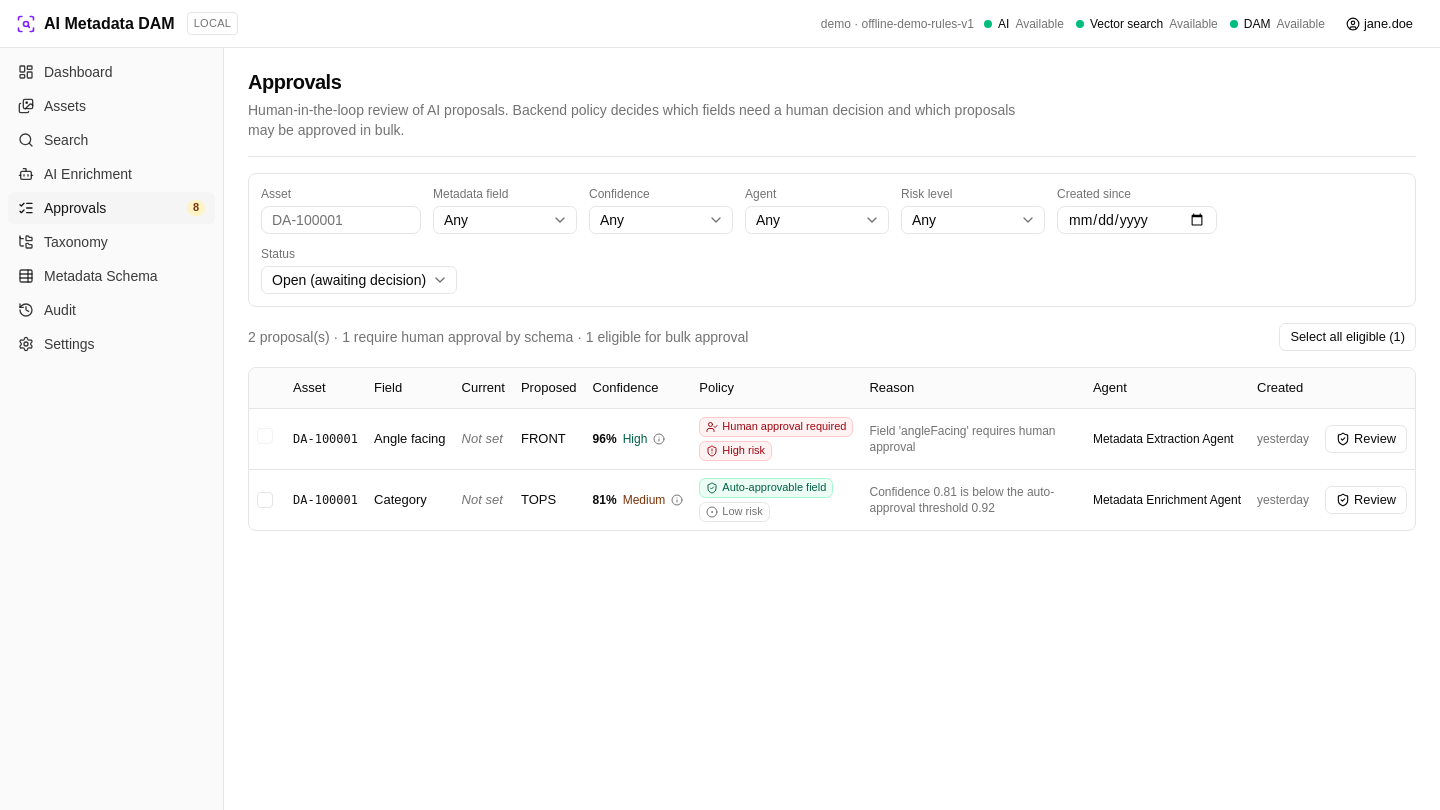
Test case: AI proposal review › only offers bulk approval for proposals the backend marks bulk-approvable
Expected: the checkbox named "Select Category of DA-100001" is enabled, [257,492,273,508]
Click the button "Select all eligible (1)" at (1348, 337), box [1280,323,1416,351]
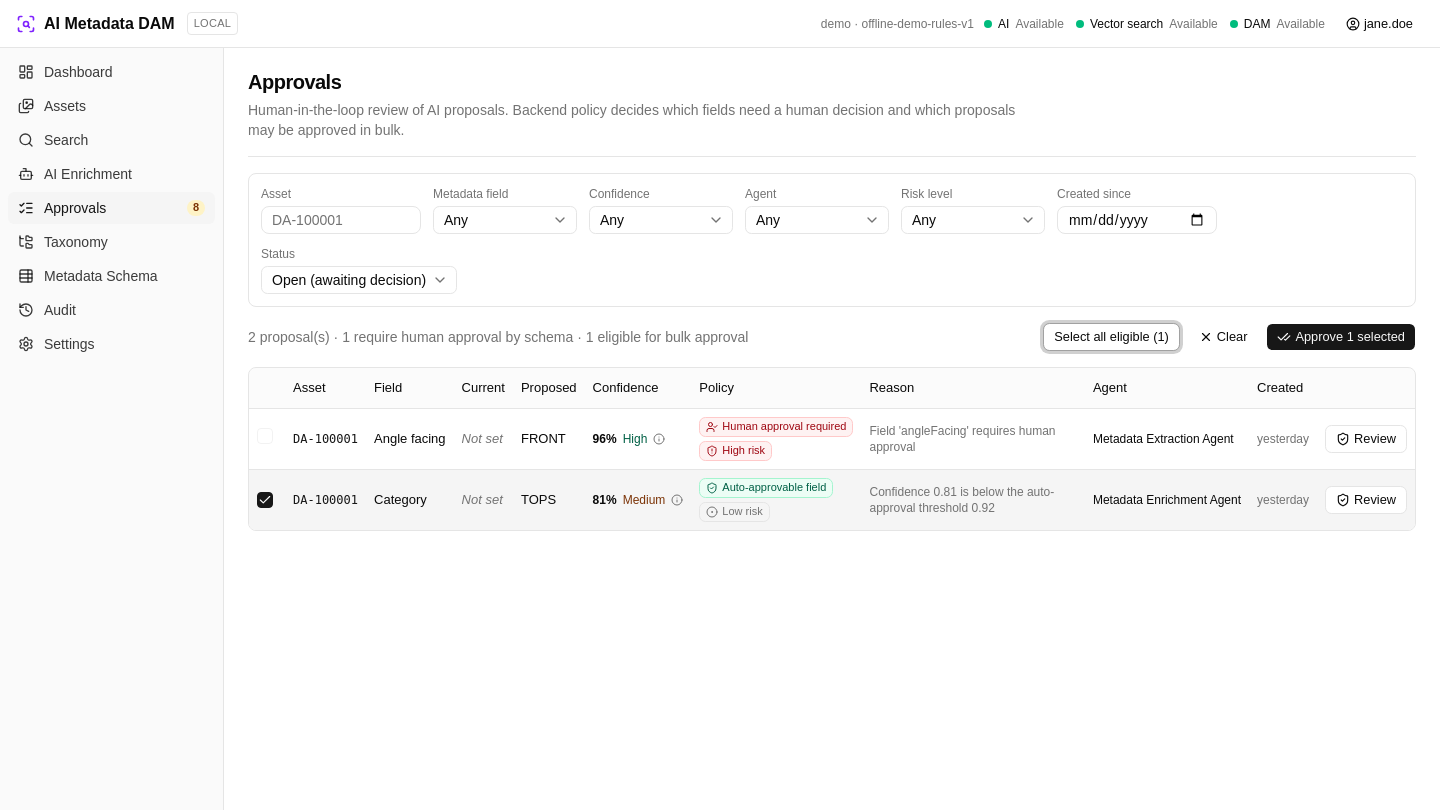
Click the button "Approve 1 selected" at (1341, 337), box [1266,323,1416,351]
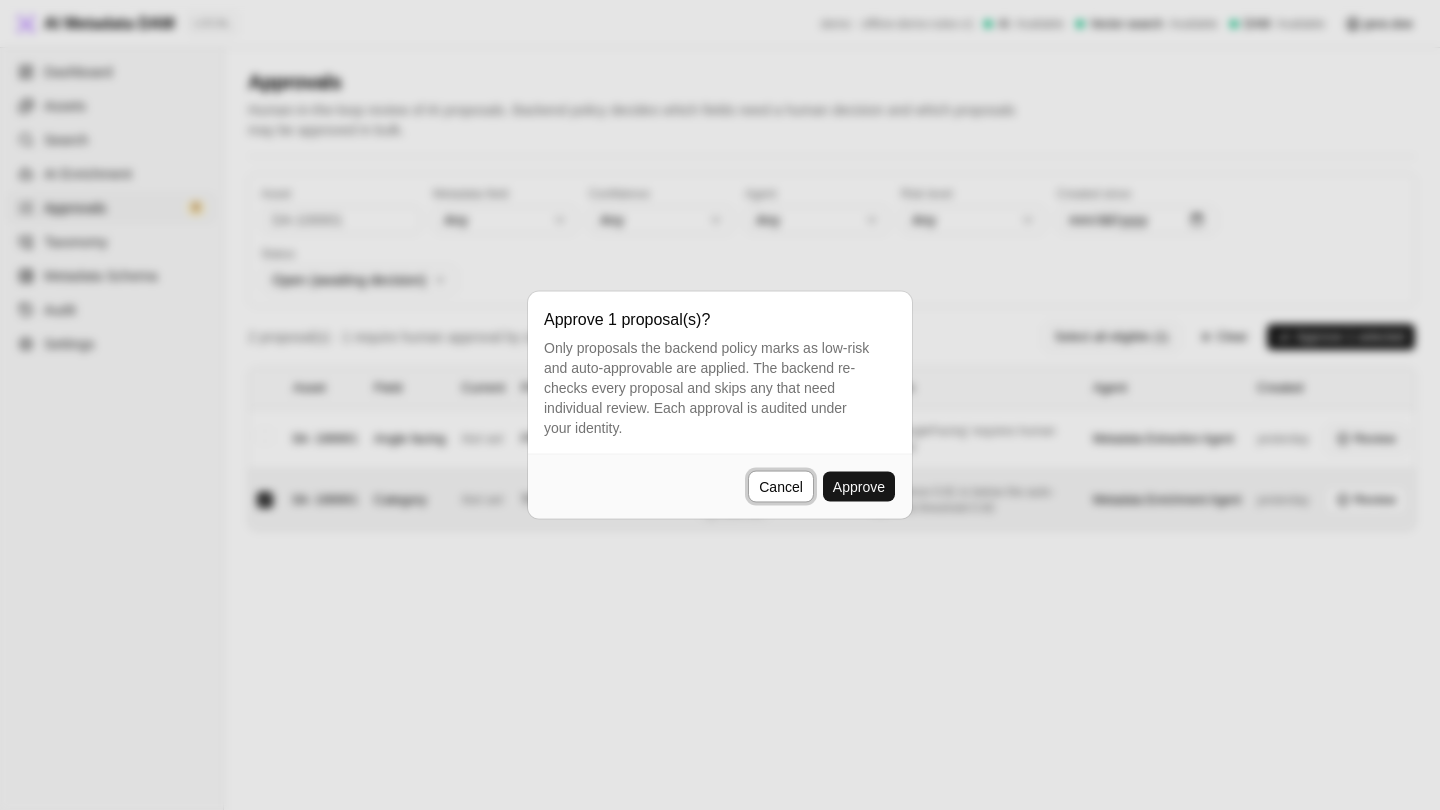
Click the button "Approve" at (859, 486), box [822,470,896,502]
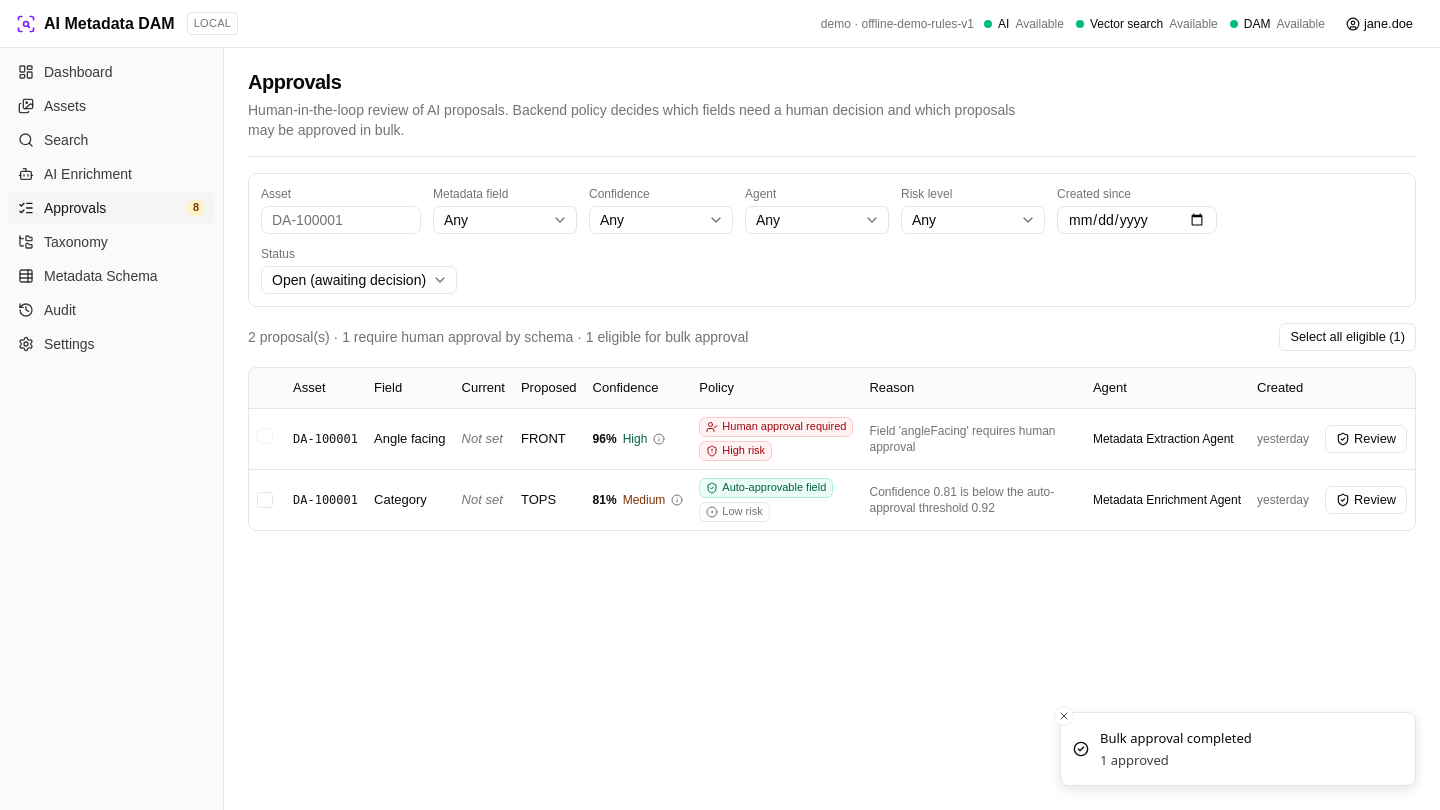
Expected: the text "Bulk approval completed" is shown, [1100,729,1252,749]
